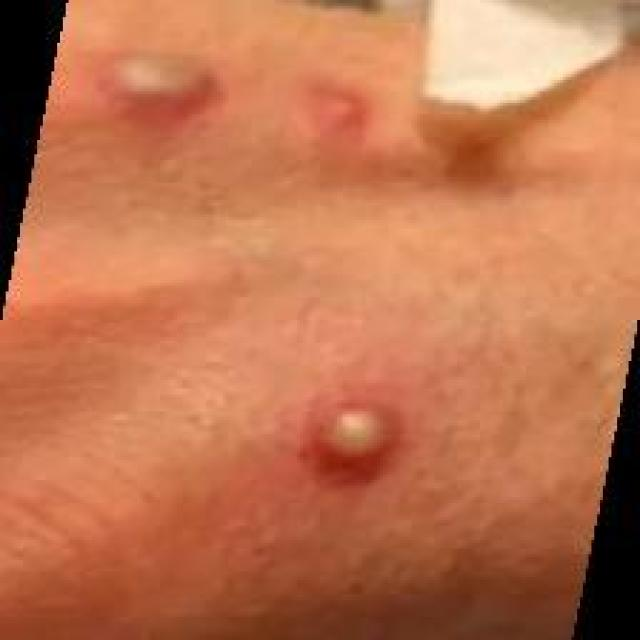monkeypox: (62, 33, 539, 575)
